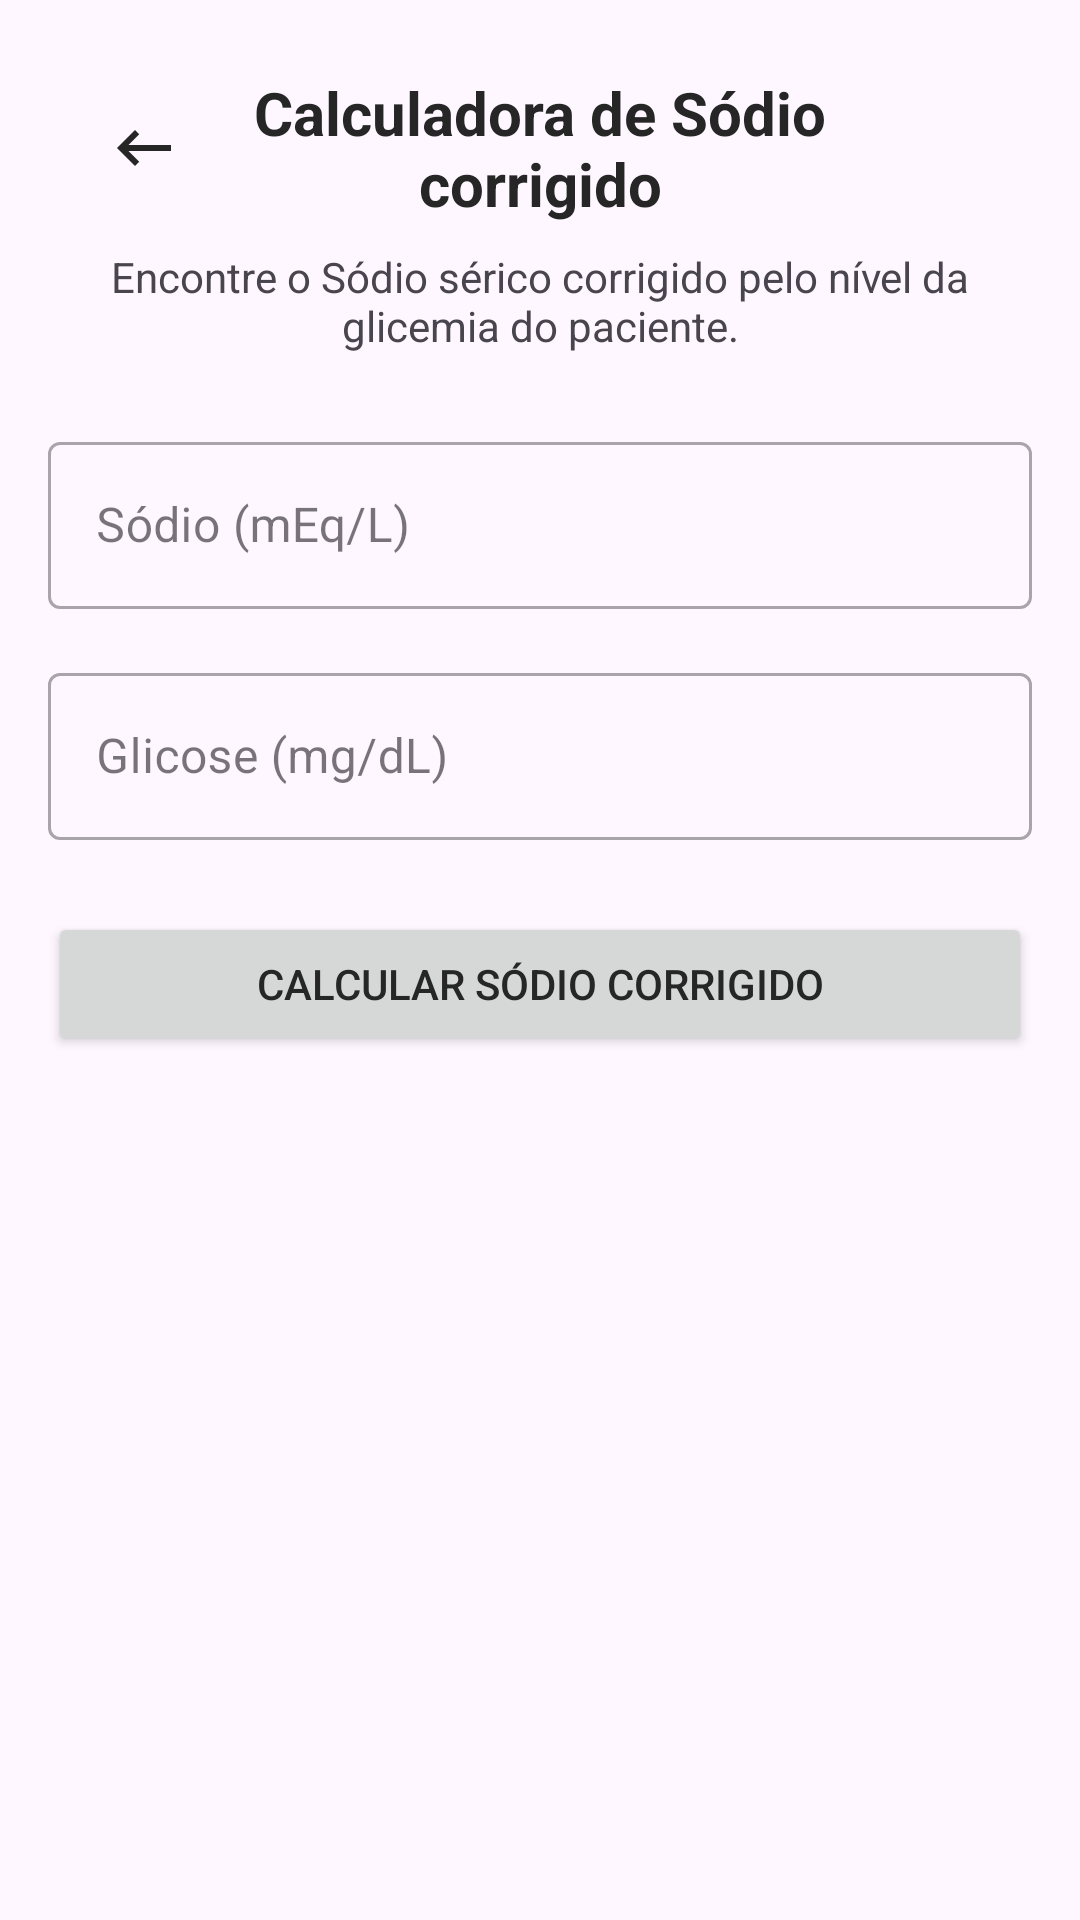

Icons on this 1080w x 1920h Android screen, each with the point to tap as [x,y]:
Voltar: [144,148]
